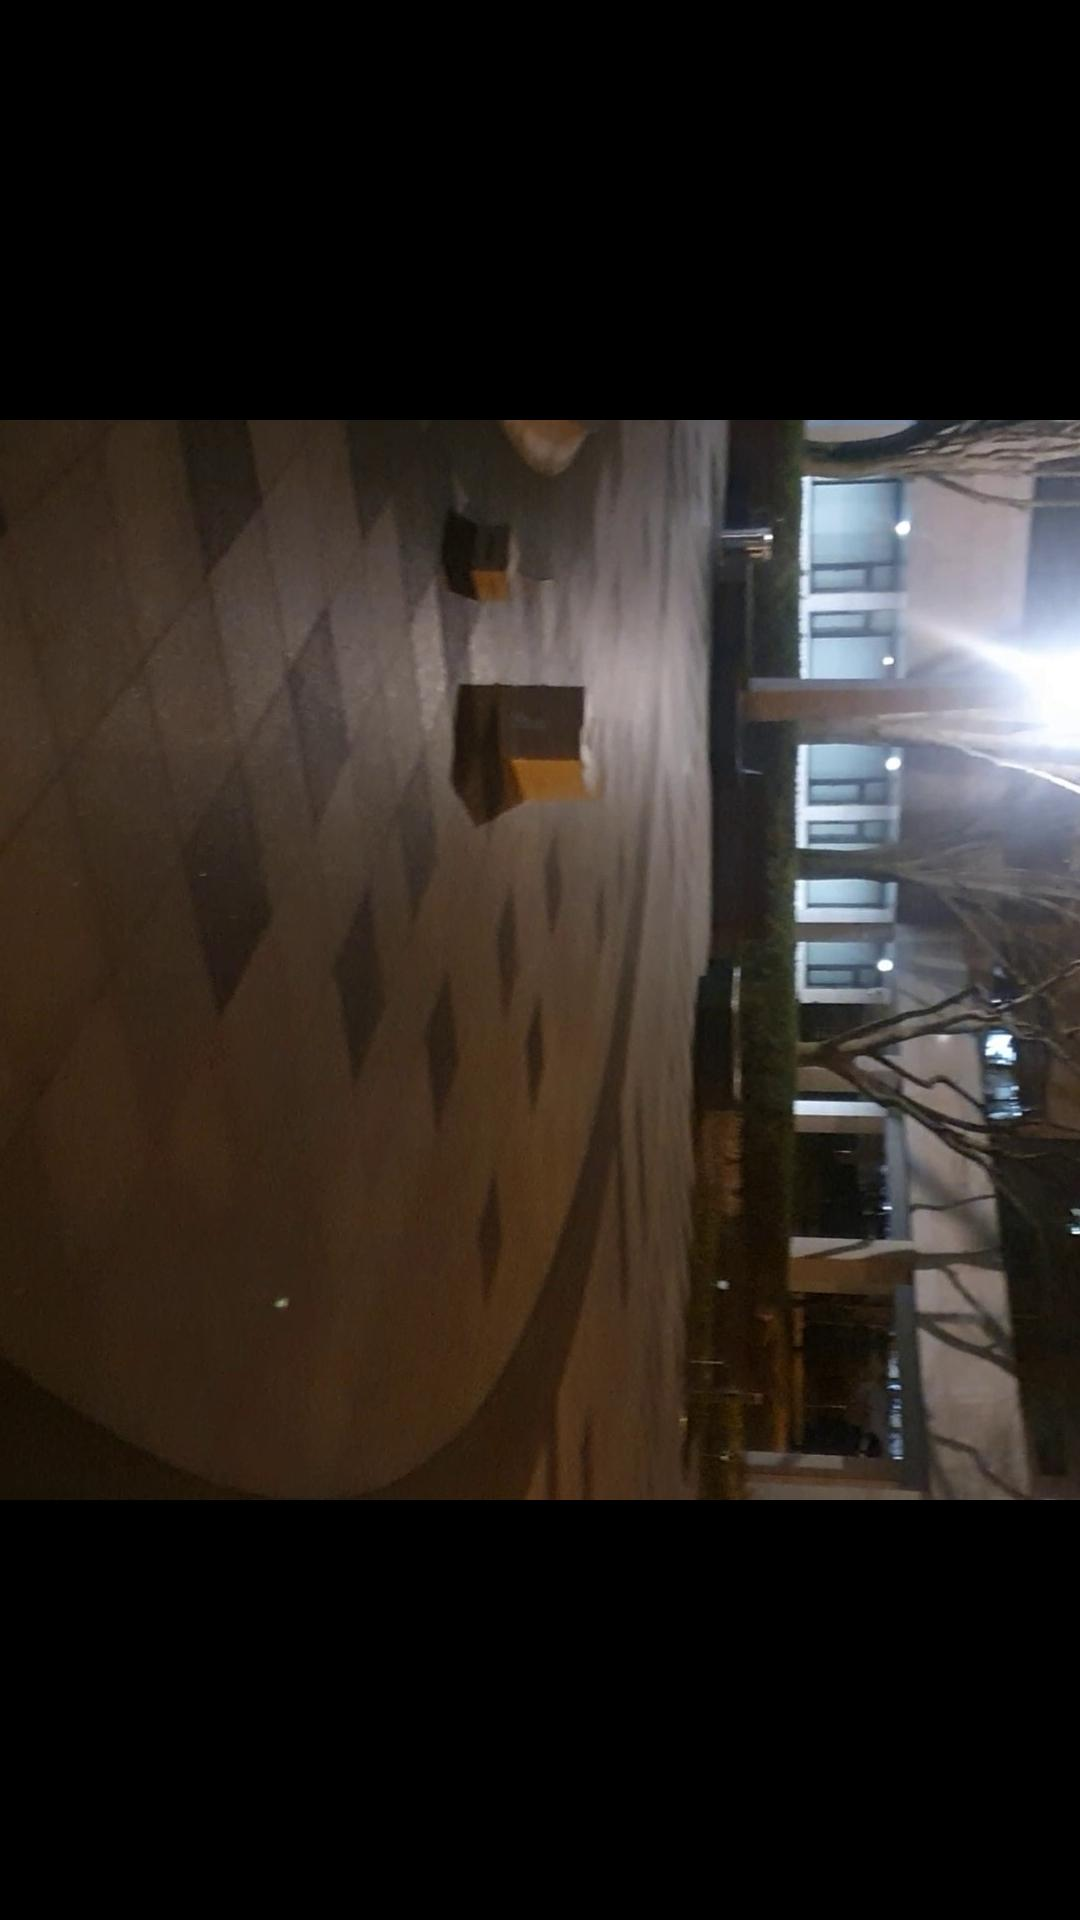Box: (485, 678, 605, 807), (447, 501, 527, 605)
